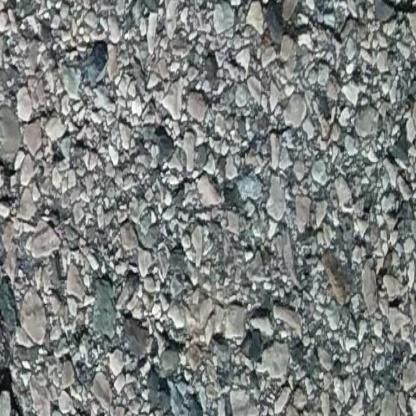Cracks: (148, 0, 416, 65)
